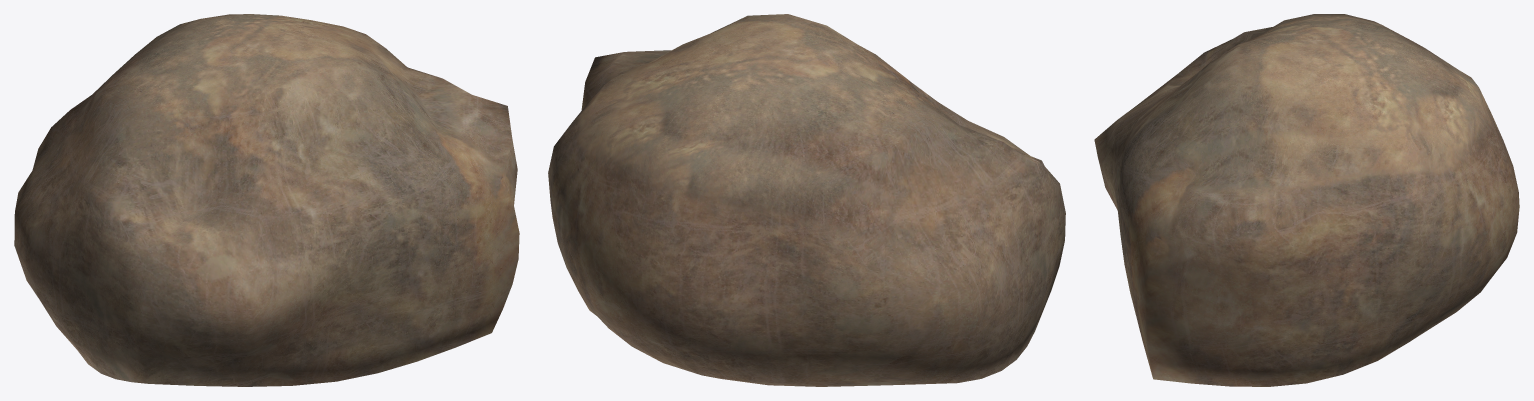
The model's file is lod0_rock_bigmama.obj.
3 views of the same model, side by side, from view 1: azimuth 30°, elevation 25°; view 2: azimuth 150°, elevation 25°; view 3: azimuth 270°, elevation 25° (orthographic). The views are drawn at different scales.
Parts seen in each view (by area): view 1: lod0_rock1 game; view 2: lod0_rock1 game; view 3: lod0_rock1 game.
Boxes of the visible parts, x1=… form: lod0_rock1 game: x1=14, y1=14, x2=519, y2=386; lod0_rock1 game: x1=548, y1=14, x2=1065, y2=386; lod0_rock1 game: x1=1094, y1=14, x2=1519, y2=386.
Bounding box in the file's own units: 38.01 × 24.61 × 33.14.
Materials: 1 (1 with a texture image).
